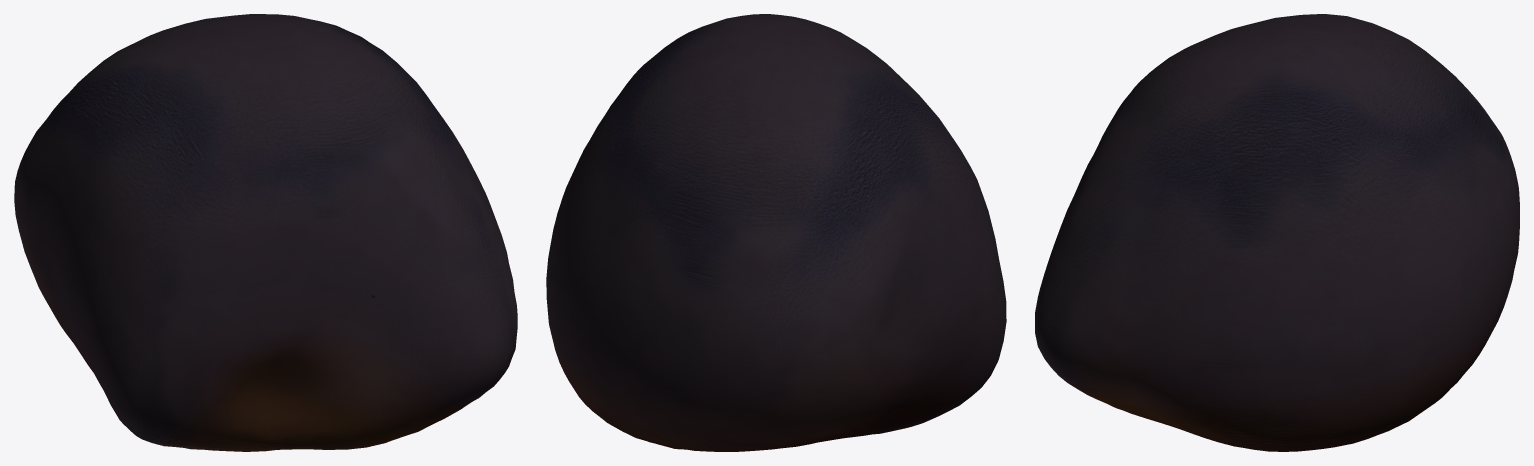
The model's file is selected.glb.
3 views of the same model, side by side, from view 1: azimuth 30°, elevation 25°; view 2: azimuth 150°, elevation 25°; view 3: azimuth 270°, elevation 25° (orthographic). The views are drawn at different scales.
Visible parts, largest first — view 1: tripo_node_5eaf7fe3-228c-41cd-ae59-1b2b4f804823; view 2: tripo_node_5eaf7fe3-228c-41cd-ae59-1b2b4f804823; view 3: tripo_node_5eaf7fe3-228c-41cd-ae59-1b2b4f804823.
Boxes of the visible parts, <box> form: tripo_node_5eaf7fe3-228c-41cd-ae59-1b2b4f804823: <box>14,14,517,451</box>; tripo_node_5eaf7fe3-228c-41cd-ae59-1b2b4f804823: <box>546,14,1006,451</box>; tripo_node_5eaf7fe3-228c-41cd-ae59-1b2b4f804823: <box>1035,14,1519,451</box>.
Bounding box in the file's own units: 0.8982 × 0.82 × 1.
1 material, 1 textured.
